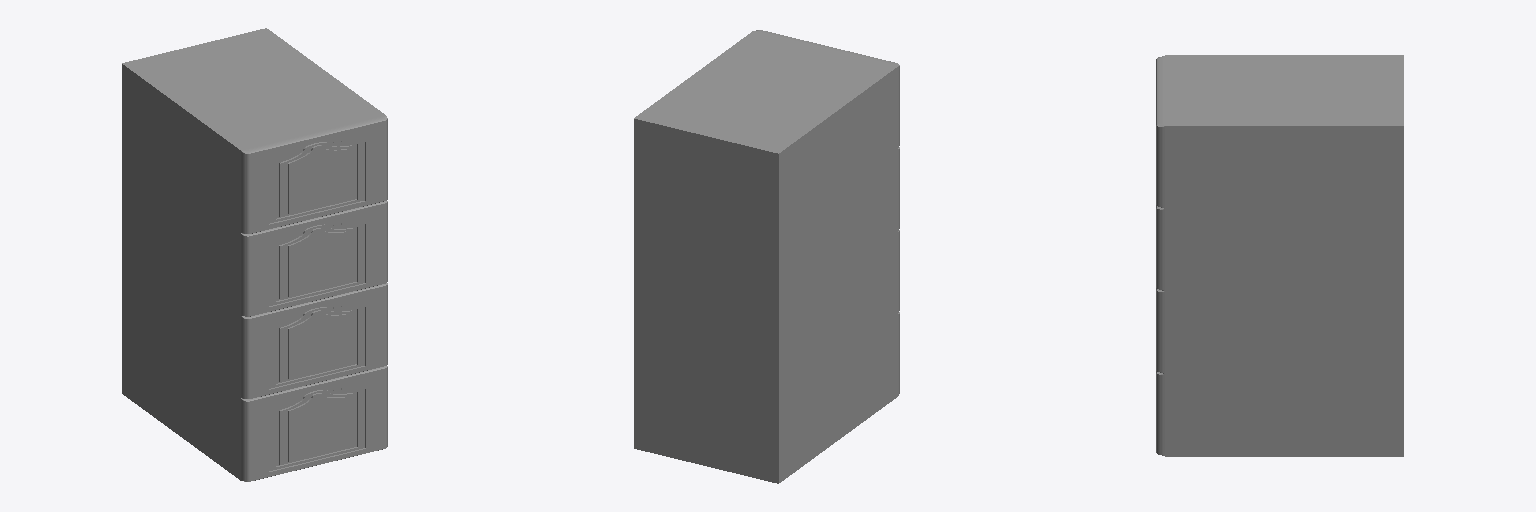
The model's file is drawer-pack-400.obj.
3 renders of one model, left to right at view 1: azimuth 30°, elevation 25°; view 2: azimuth 150°, elevation 25°; view 3: azimuth 270°, elevation 25°, orthographic.
Visible parts, largest first — view 1: Cube.002_Cube.004, Cube_Cube.002, Cube.006_Cube.005, Cube.003_Cube.008, Cube.005_Cube.001, Cube.004_Cube.000, Cube.001_Cube.003; view 2: Cube_Cube.002, Cube.002_Cube.004, Cube.001_Cube.003, Cube.006_Cube.005; view 3: Cube.001_Cube.003, Cube_Cube.002, Cube.006_Cube.005, Cube.004_Cube.000, Cube.005_Cube.001, Cube.003_Cube.008, Cube.002_Cube.004.
Part boxes in pixels (bbox=[...]): Cube.002_Cube.004: bbox=[122, 62, 245, 480]; Cube_Cube.002: bbox=[128, 29, 379, 148]; Cube.006_Cube.005: bbox=[241, 115, 387, 233]; Cube.003_Cube.008: bbox=[241, 366, 387, 481]; Cube.005_Cube.001: bbox=[241, 201, 387, 316]; Cube.004_Cube.000: bbox=[241, 283, 387, 398]; Cube.001_Cube.003: bbox=[262, 28, 384, 116]; Cube_Cube.002: bbox=[639, 32, 891, 482]; Cube.002_Cube.004: bbox=[773, 65, 897, 483]; Cube.001_Cube.003: bbox=[634, 31, 757, 449]; Cube.006_Cube.005: bbox=[755, 30, 899, 147]; Cube.001_Cube.003: bbox=[1165, 124, 1403, 456]; Cube_Cube.002: bbox=[1165, 58, 1403, 123]; Cube.006_Cube.005: bbox=[1156, 56, 1164, 208]; Cube.004_Cube.000: bbox=[1156, 288, 1164, 373]; Cube.005_Cube.001: bbox=[1156, 205, 1164, 290]; Cube.003_Cube.008: bbox=[1156, 371, 1164, 455]; Cube.002_Cube.004: bbox=[1165, 55, 1403, 57].
Size of the model in its own units: 80 by 174 by 118.